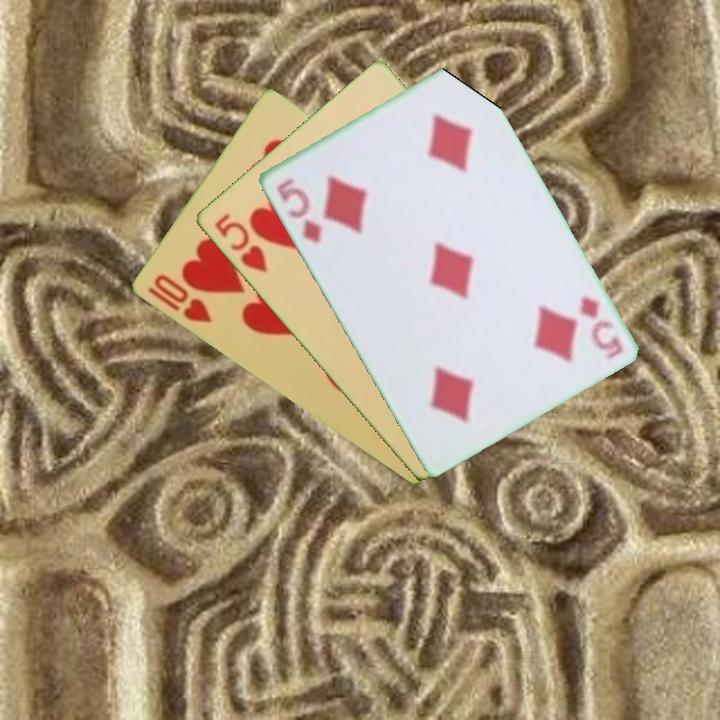10h: (149, 270, 215, 326)
5d: (272, 174, 325, 247), (575, 291, 625, 362)
5h: (210, 209, 270, 276)
